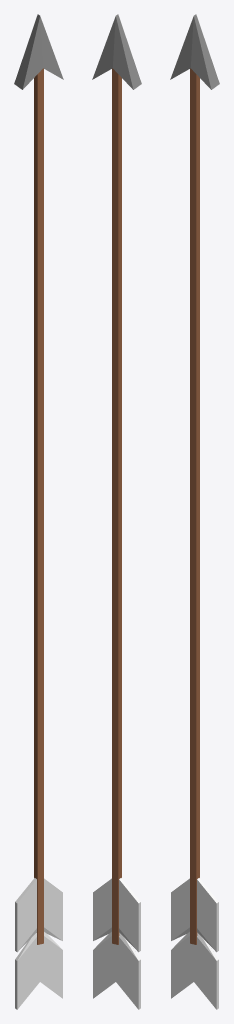
File: Arrow.glb
3 renders of one model, left to right at view 1: azimuth 30°, elevation 25°; view 2: azimuth 150°, elevation 25°; view 3: azimuth 330°, elevation 25°, orthographic.
Parts seen in each view (by area): view 1: Arrow; view 2: Arrow; view 3: Arrow.
Boxes of the visible parts, x1=… form: Arrow: x1=14, y1=14, x2=63, y2=1009; Arrow: x1=92, y1=14, x2=141, y2=1009; Arrow: x1=170, y1=14, x2=219, y2=1009.
Bounding box in the file's own units: 0.1947 × 4.03 × 0.0625.
